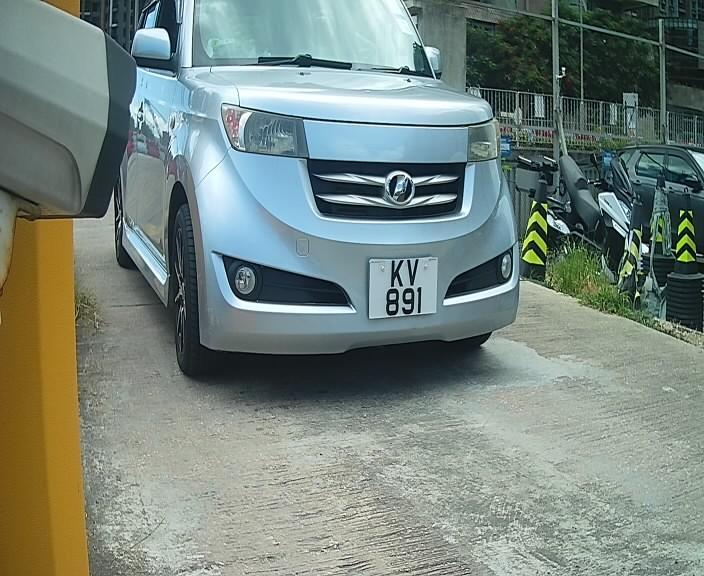License Plate: (362, 245, 444, 325)
